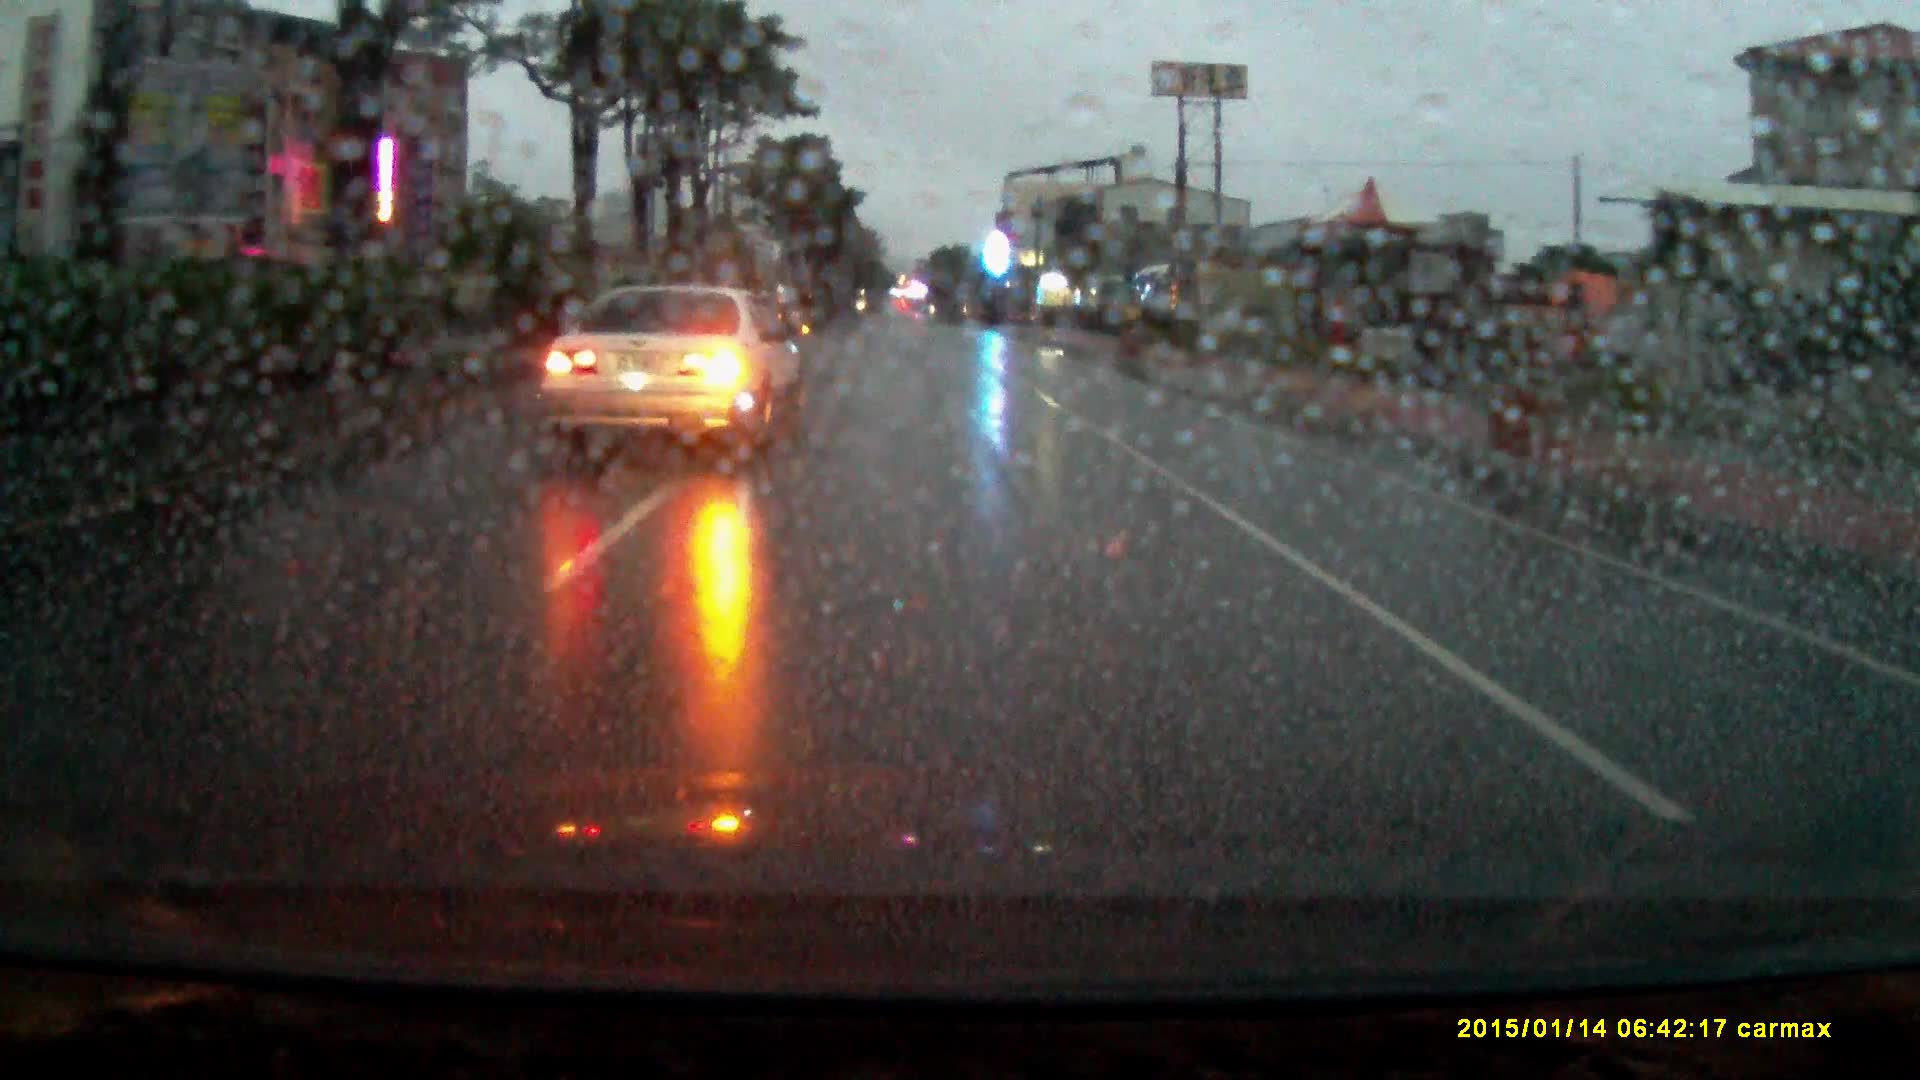pedestrian: (1538, 267, 1635, 474)
vehicle: (534, 286, 810, 467)
